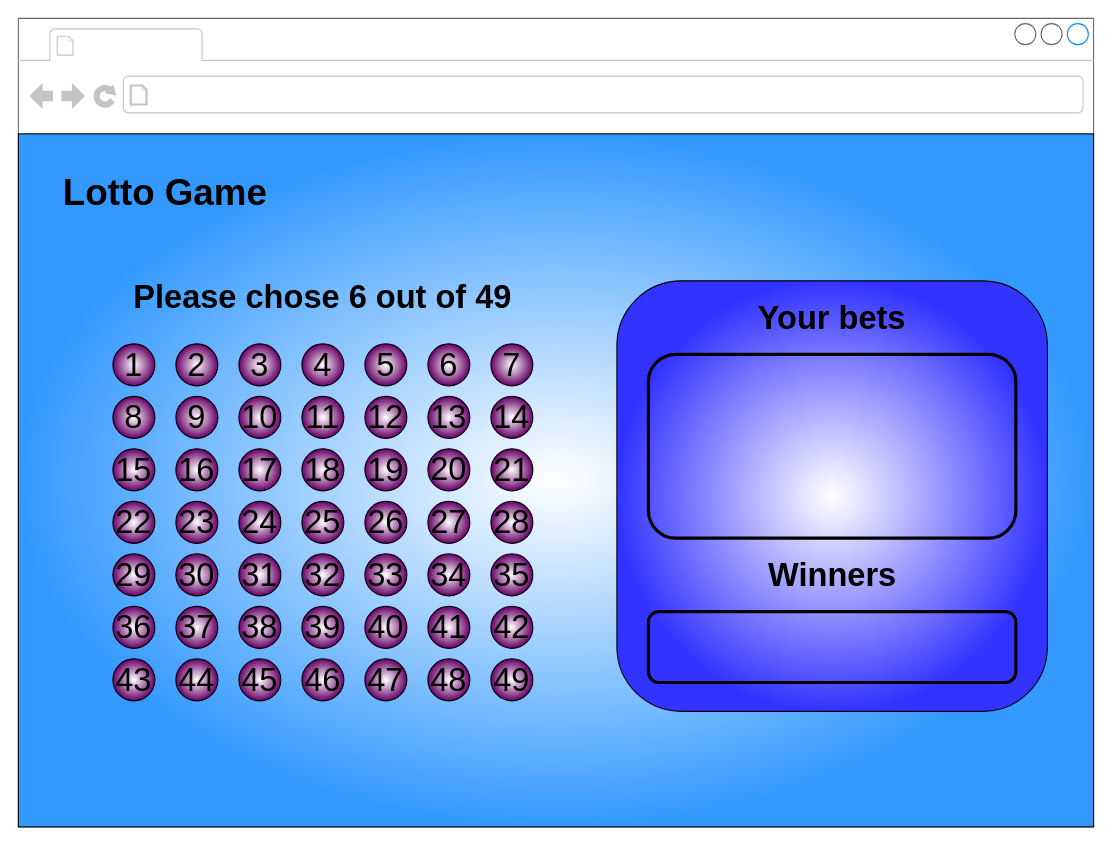
Image size: 1112x845. Some labels were removed from this diagram. The centre of each missing label's shape, as x and y in pixels:
"https://www.draw.io" belongs at point 285,94.
"Page 1" belongs at point 138,44.
